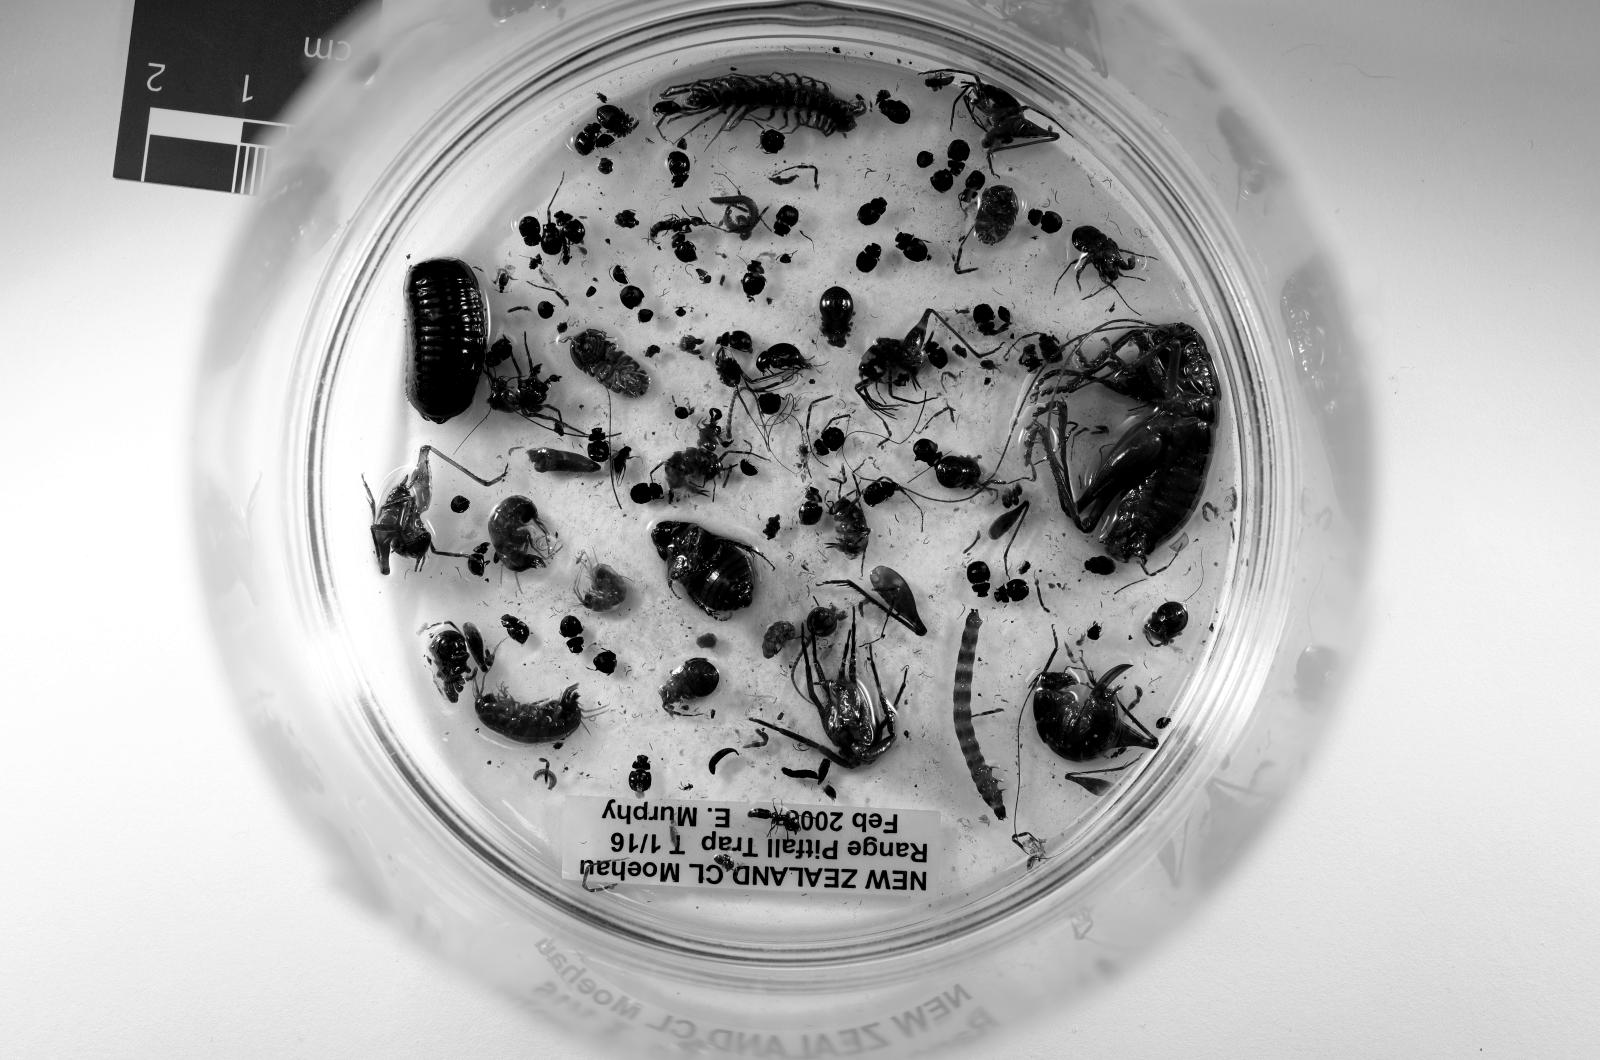acari: (675, 403, 694, 419), (982, 357, 1000, 369)
amphipoda: (475, 684, 607, 742), (487, 497, 559, 575), (662, 447, 721, 500), (575, 552, 626, 612), (763, 621, 797, 658)
araneae: (757, 618, 906, 767), (487, 367, 582, 435)
chilopoda: (656, 71, 869, 137)
coleoptera: (650, 522, 763, 618), (757, 342, 807, 373), (553, 211, 584, 245), (812, 426, 847, 457), (740, 260, 765, 302), (559, 615, 584, 655), (894, 233, 931, 260), (799, 487, 825, 525), (628, 755, 650, 799), (666, 149, 691, 187), (972, 304, 1000, 336), (879, 96, 909, 124), (856, 195, 887, 224), (772, 205, 799, 237), (959, 170, 984, 205), (1028, 208, 1062, 233), (540, 220, 565, 254), (862, 481, 896, 506), (966, 562, 991, 596), (993, 577, 1028, 602), (715, 329, 753, 351), (572, 124, 600, 155), (485, 336, 512, 367), (500, 615, 531, 642), (913, 438, 940, 466), (856, 243, 881, 273), (588, 428, 609, 463), (466, 543, 487, 577), (925, 338, 947, 369), (672, 233, 697, 260), (947, 140, 969, 170), (519, 214, 540, 245), (631, 481, 662, 503), (1084, 556, 1115, 575), (653, 99, 681, 115), (966, 170, 984, 193), (613, 267, 628, 286), (740, 459, 757, 476)
coleoptera_larva: (953, 608, 1006, 820)
diplopoda: (710, 193, 763, 239)
diptera: (609, 447, 631, 481)
formicidae: (650, 214, 710, 239), (747, 807, 799, 833)
isopoda: (403, 258, 491, 426), (569, 329, 650, 397), (972, 187, 1018, 245)
opiliones: (1069, 227, 1141, 289), (660, 658, 719, 717), (428, 625, 472, 702), (818, 286, 853, 348), (1144, 602, 1187, 646), (934, 457, 982, 491), (597, 103, 637, 137), (715, 348, 744, 388)
orthoptera: (1022, 323, 1222, 562), (365, 444, 510, 575), (925, 69, 1060, 174), (1031, 658, 1157, 761), (856, 310, 931, 416), (825, 497, 872, 556)
pseudoscorpiones: (697, 407, 734, 451)
